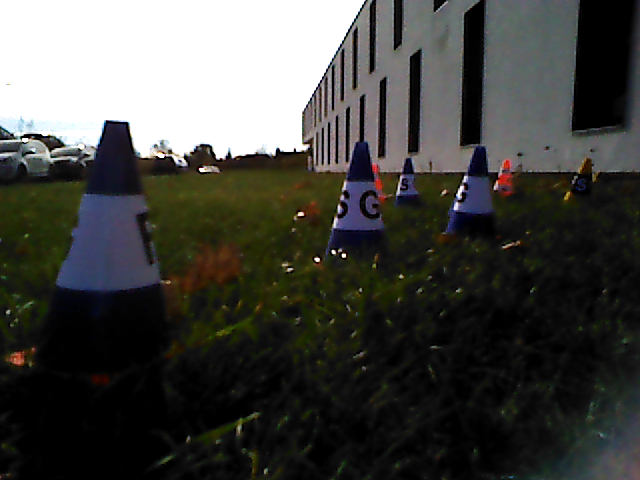bluecone: (41, 123, 169, 358), (328, 142, 387, 256), (446, 145, 498, 234), (395, 159, 419, 206)
orangeconesmall: (493, 159, 515, 196)
yellowcone: (565, 159, 594, 204)
